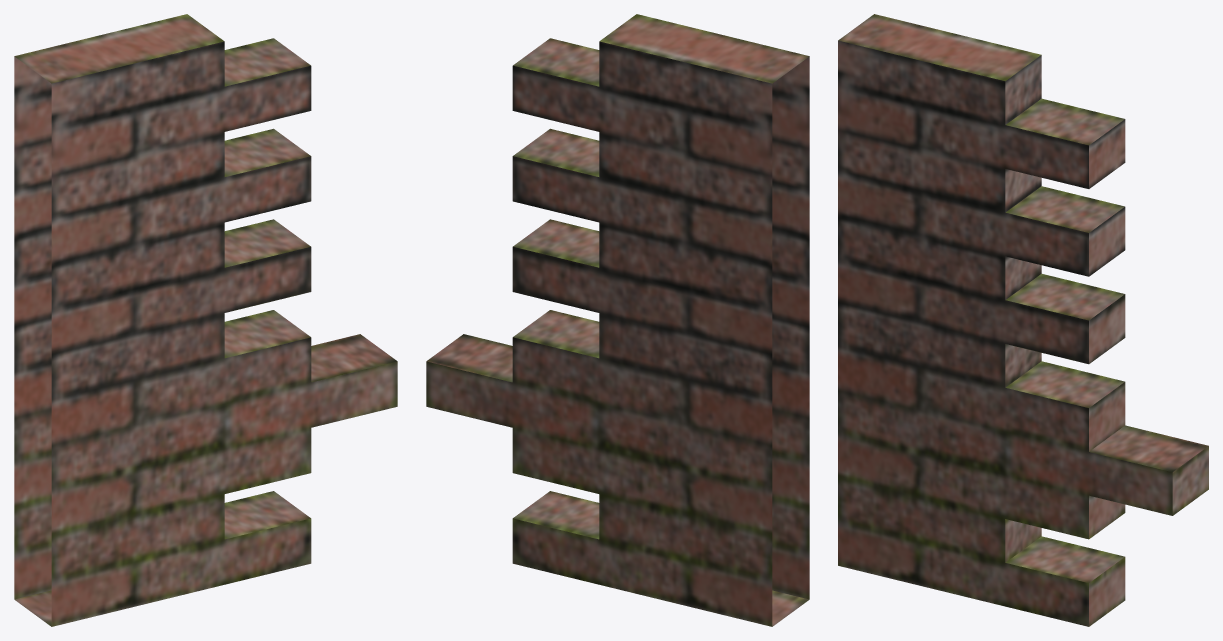
File: Crack_1.fbx
The picture shows the model from 3 angles, left to right: view 1: azimuth 30°, elevation 25°; view 2: azimuth 150°, elevation 25°; view 3: azimuth 330°, elevation 25°; orthographic projection. The views are drawn at different scales.
Visible parts, largest first — view 1: Cube; view 2: Cube; view 3: Cube.
Part boxes in pixels (x1,y1,x2,y2): Cube: (14,14,397,626); Cube: (426,14,809,626); Cube: (838,14,1208,626).
Size of the model in its own units: 80 by 120 by 15.
Materials: 1 (1 with a texture image).
